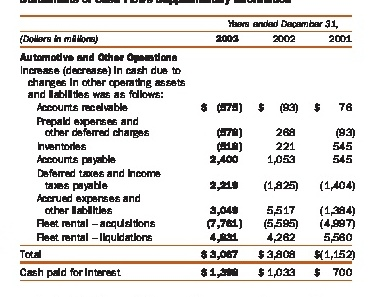table: (0, 0, 374, 297)
